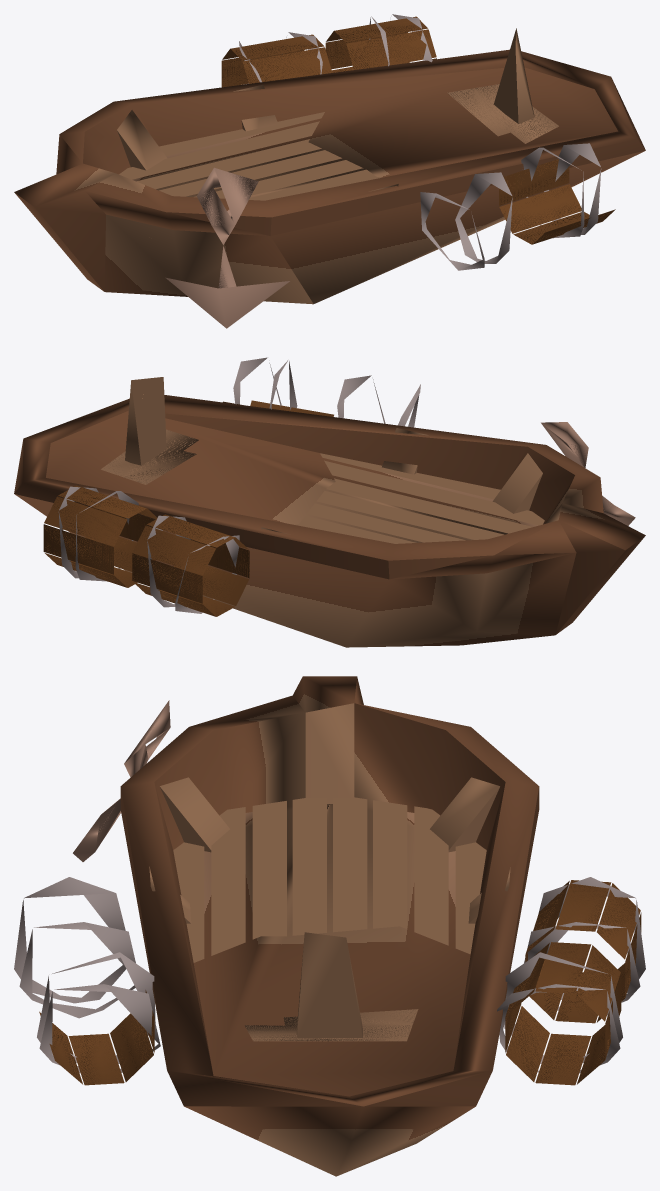
The model's file is Ship_Small.low.gltf.
3 renders of one model, top to bottom at view 1: azimuth 30°, elevation 25°; view 2: azimuth 150°, elevation 25°; view 3: azimuth 270°, elevation 25°, orthographic. The views are drawn at different scales.
Visible parts, largest first — view 1: Ship_Small; view 2: Ship_Small; view 3: Ship_Small.
Boxes of the visible parts, box(x1,y1,x2,y2) form: Ship_Small: box(14, 14, 645, 328); Ship_Small: box(14, 357, 645, 647); Ship_Small: box(14, 676, 645, 1176).
Size of the model in its own units: 5.13 by 1.5 by 3.54.
Materials: 1 (1 with a texture image).
